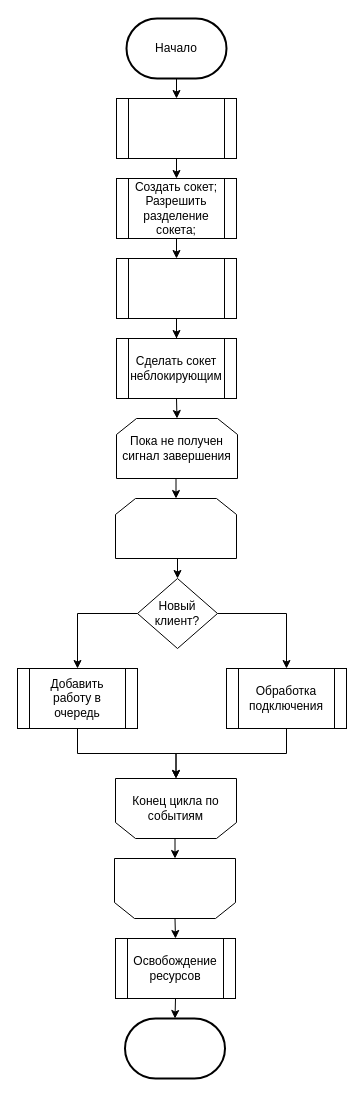
Some shapes in this 364 by 1096 pixel diagram are drawn without their labels. The shapes that lost their labels are listed below. From the top down, each one's centre as x and y in pixels, then its label:
At [176,128]: "Инициализация таймера".
At [176,288]: "Сделать сокет неблокирующим; Добавить в epoll;".
At [175,528]: "Для каждого отслеживаемого события на ф.д.".
At [175,888]: "Конец цикла".
At [175,1048]: "Конец".
